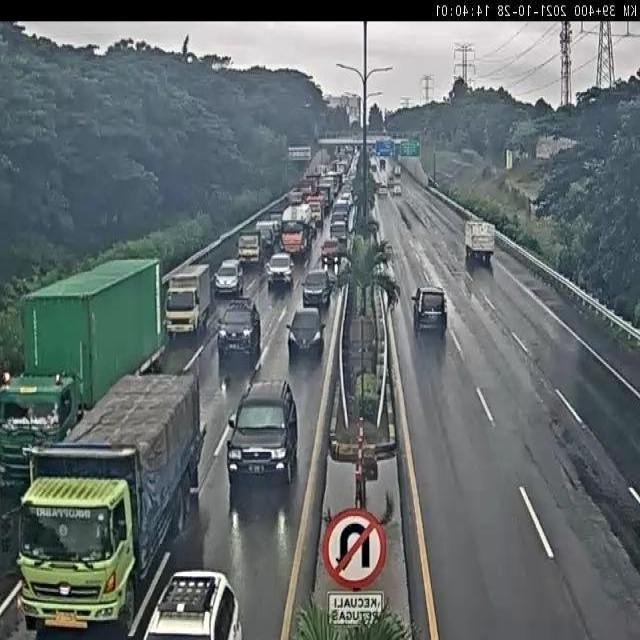Truck: (11, 337, 201, 628), (18, 260, 161, 410), (0, 371, 79, 487), (164, 265, 213, 340), (280, 202, 314, 259), (464, 220, 495, 266), (236, 232, 263, 268)
